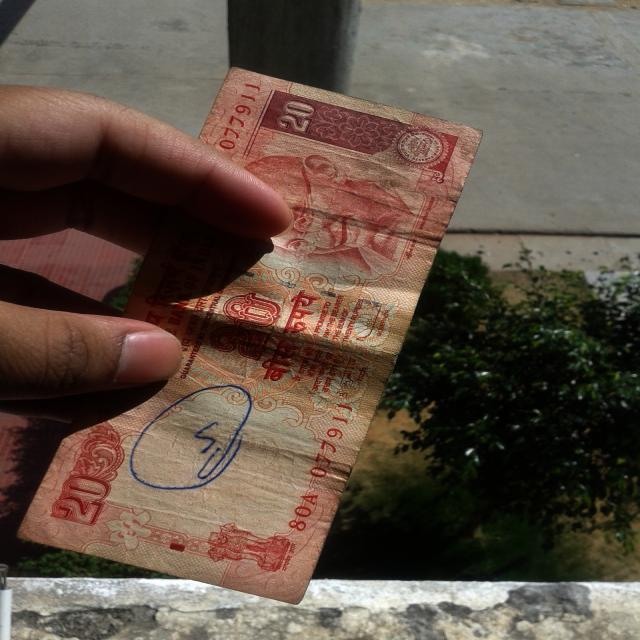20rs: (12, 70, 512, 606)
